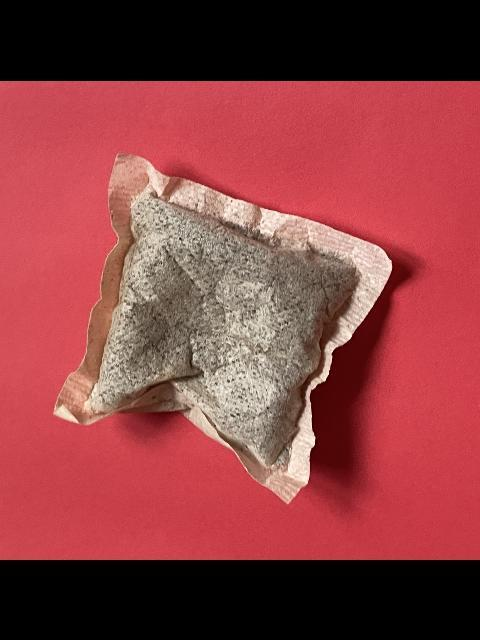teabag: (49, 149, 395, 506)
